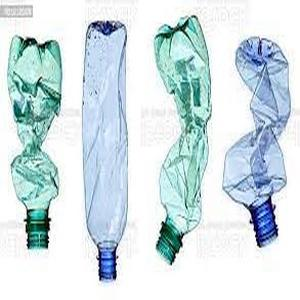Plastic: (151, 14, 219, 268), (223, 32, 299, 248), (80, 21, 135, 285), (8, 34, 62, 255)
